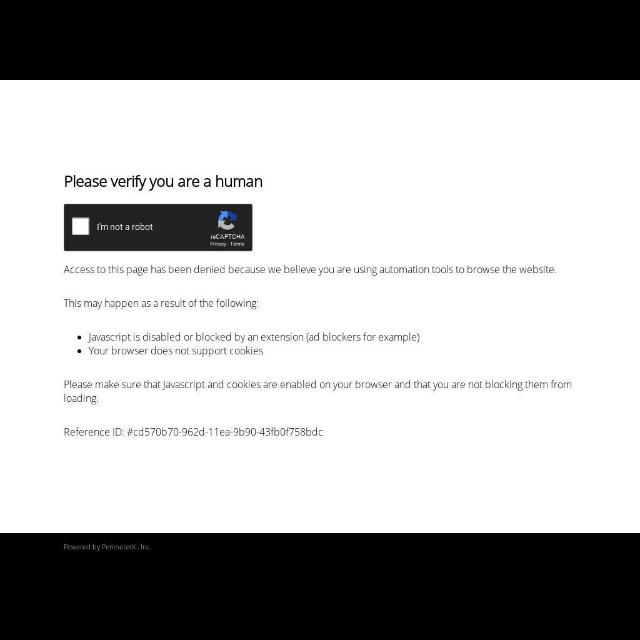checkbox: (72, 218, 90, 236)
image: (218, 208, 238, 230)
text: (63, 380, 573, 406), (63, 266, 559, 278), (87, 332, 421, 342), (62, 296, 262, 312), (64, 426, 323, 438), (64, 176, 264, 190), (87, 347, 263, 358), (63, 542, 151, 552), (96, 222, 154, 232), (210, 233, 247, 240), (210, 241, 246, 247)
